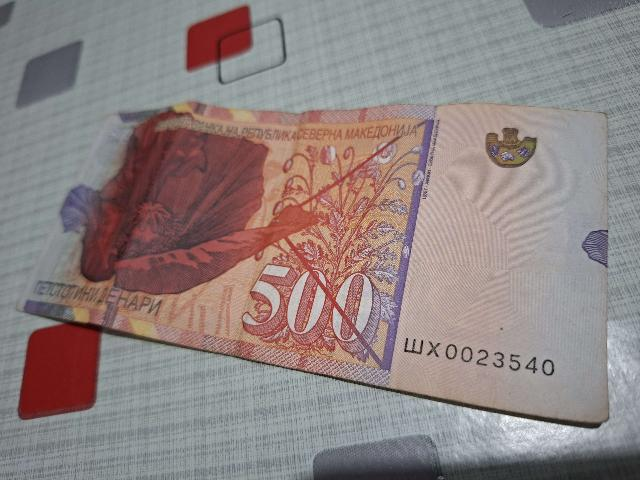500_note: (20, 103, 607, 423)
